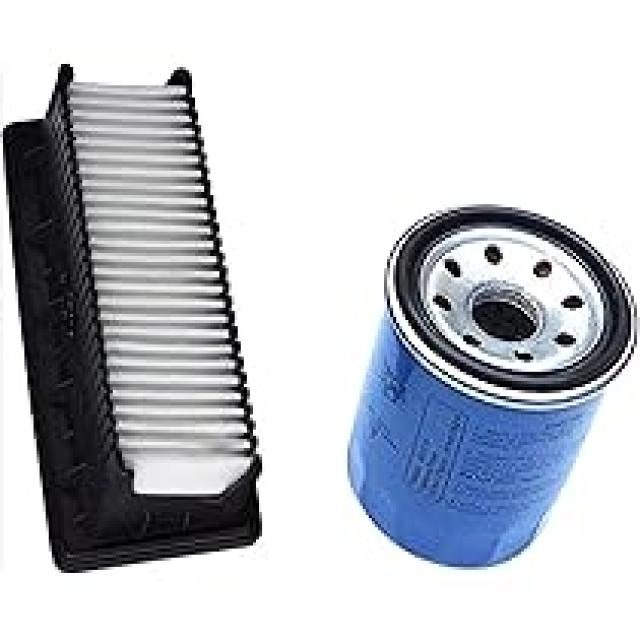air_filter: (0, 56, 270, 580)
oil_filter: (338, 208, 637, 569)
